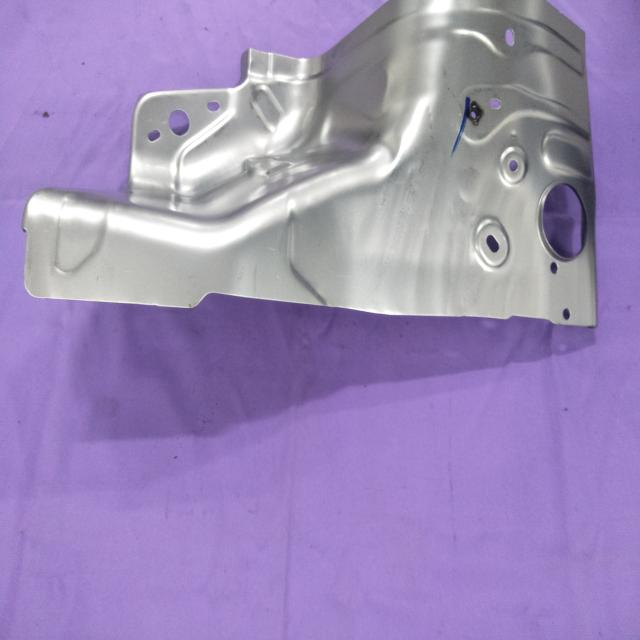Healthy: (22, 1, 599, 332)
